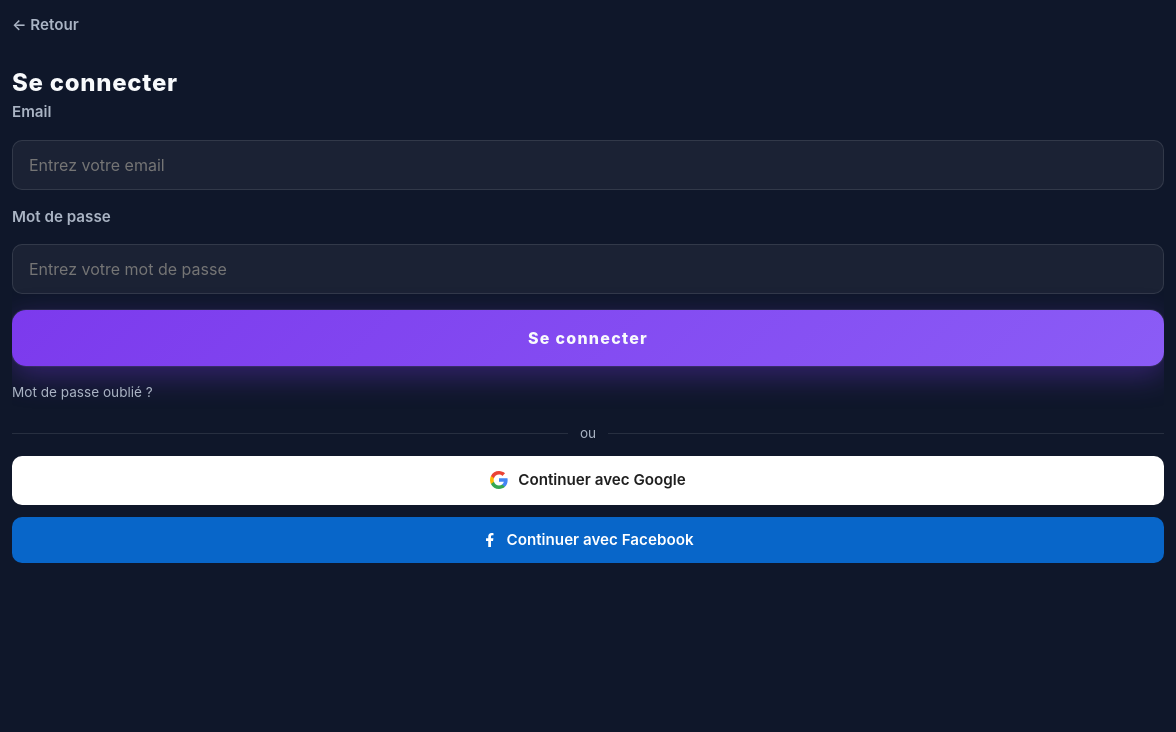
it: LoginForm › affiche une erreur et n'appelle pas login si le mot de passe est vide
Type "test@lexora.fr" into the field labelled "Email" at (588, 165), box [12,140,1164,190]
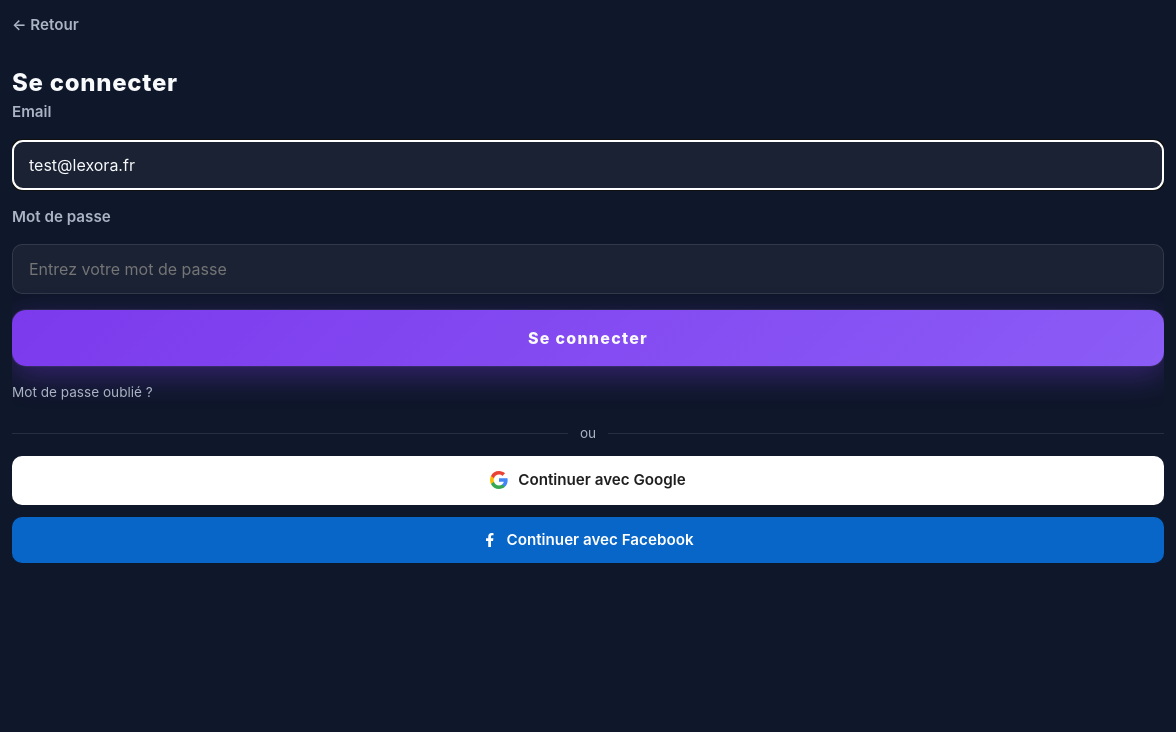
Click the button "Se connecter" at (588, 338), box [12,310,1164,366]
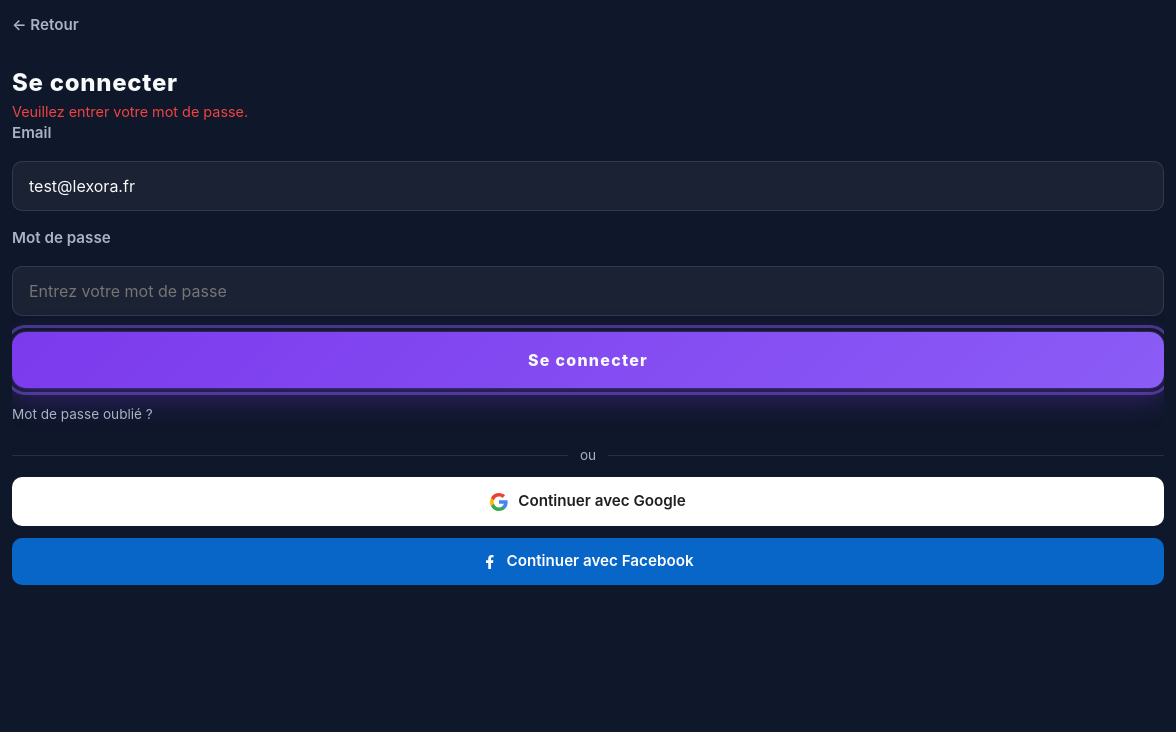
Result: the message reads "Veuillez entrer votre mot de passe." at [12,103,248,120]
